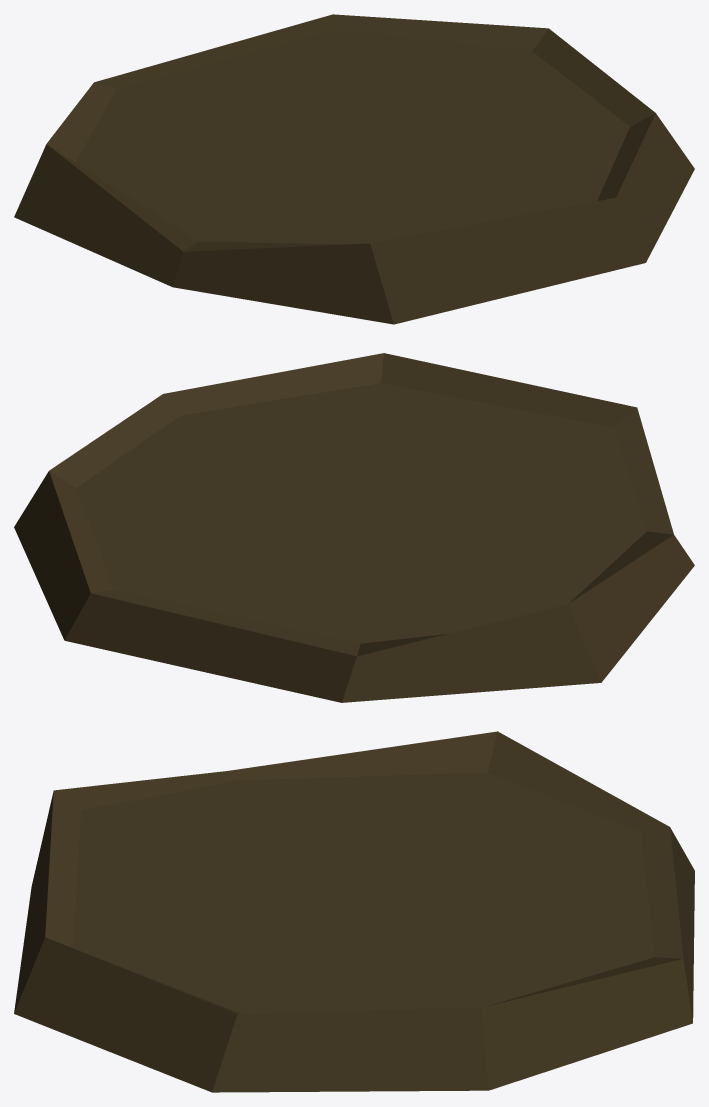
The model's file is Pressure_plate_bottom.fbx.
3 views of the same model, one above another, from view 1: azimuth 30°, elevation 25°; view 2: azimuth 150°, elevation 25°; view 3: azimuth 270°, elevation 25° (orthographic). The views are drawn at different scales.
Parts seen in each view (by area): view 1: Cylinder; view 2: Cylinder; view 3: Cylinder.
Part boxes in pixels (bbox=[...]): Cylinder: bbox=[14, 14, 694, 324]; Cylinder: bbox=[14, 353, 694, 702]; Cylinder: bbox=[14, 731, 694, 1092].
Size of the model in its own units: 210 by 28.03 by 195.
1 material, 1 textured.
